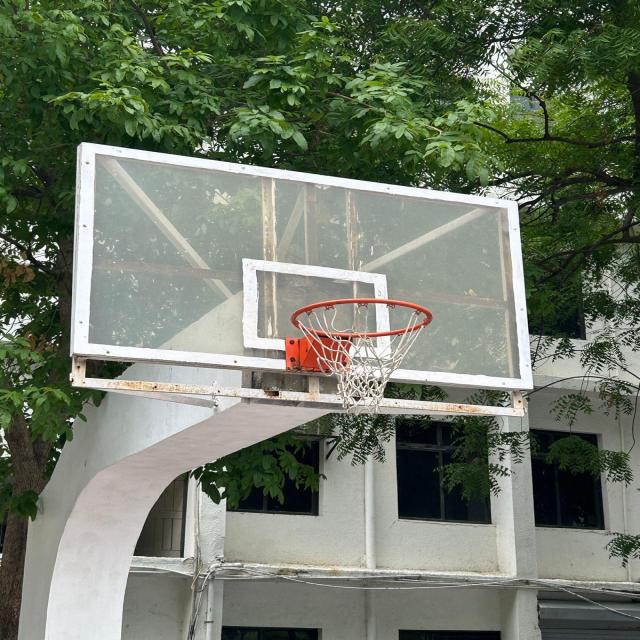hoop: (272, 290, 440, 428)
